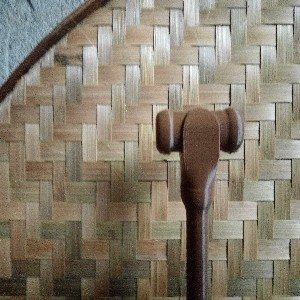palu: (155, 107, 245, 300)
